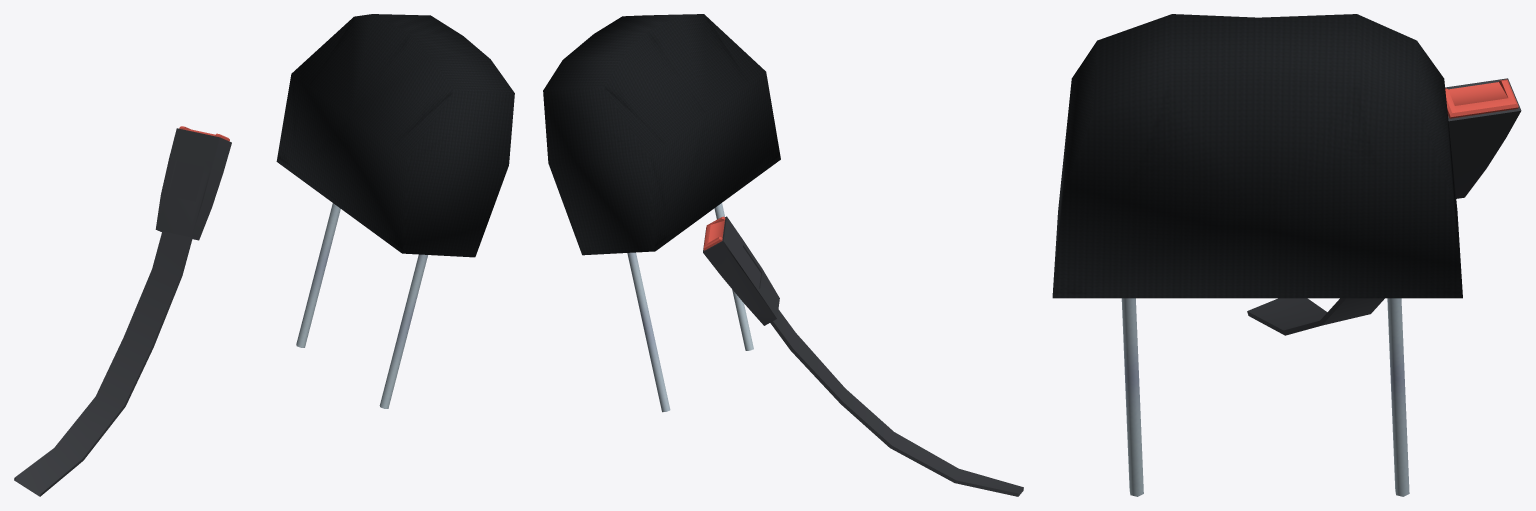
The model's file is ZuoYiTou.FBX.
The picture shows the model from 3 angles, left to right: view 1: azimuth 30°, elevation 25°; view 2: azimuth 150°, elevation 25°; view 3: azimuth 270°, elevation 25°; orthographic projection. The views are drawn at different scales.
Parts seen in each view (by area): view 1: YF_Model_ZuoYiTou01, YF_Model_ZuoYiTou02; view 2: YF_Model_ZuoYiTou01, YF_Model_ZuoYiTou02; view 3: YF_Model_ZuoYiTou01, YF_Model_ZuoYiTou02.
Boxes of the visible parts, left/top/right/bottom form: YF_Model_ZuoYiTou01: left=276, top=14, right=514, bottom=408; YF_Model_ZuoYiTou02: left=14, top=126, right=231, bottom=496; YF_Model_ZuoYiTou01: left=543, top=14, right=780, bottom=412; YF_Model_ZuoYiTou02: left=703, top=216, right=1023, bottom=496; YF_Model_ZuoYiTou01: left=1052, top=14, right=1462, bottom=496; YF_Model_ZuoYiTou02: left=1247, top=78, right=1521, bottom=335.
Size of the model in its own units: 43.77 by 35.39 by 25.58.
Materials: 1 (1 with a texture image).
